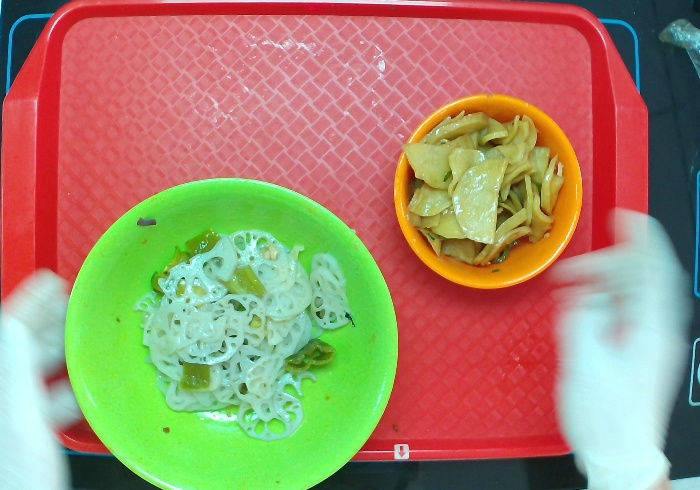YKMZ-Ju_Se_Yuan_Wan: (392, 91, 584, 290)
YKMZ-Lv_Se_Tang_Wan: (63, 173, 402, 490)
